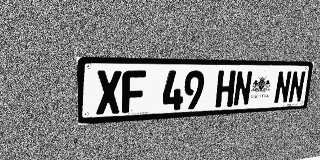4: (162, 70, 185, 111)
9: (183, 70, 205, 109)
F: (122, 70, 146, 113)
H: (215, 71, 236, 107)
N: (233, 71, 253, 106), (273, 71, 292, 104), (288, 71, 306, 103)
X: (96, 70, 121, 115)
